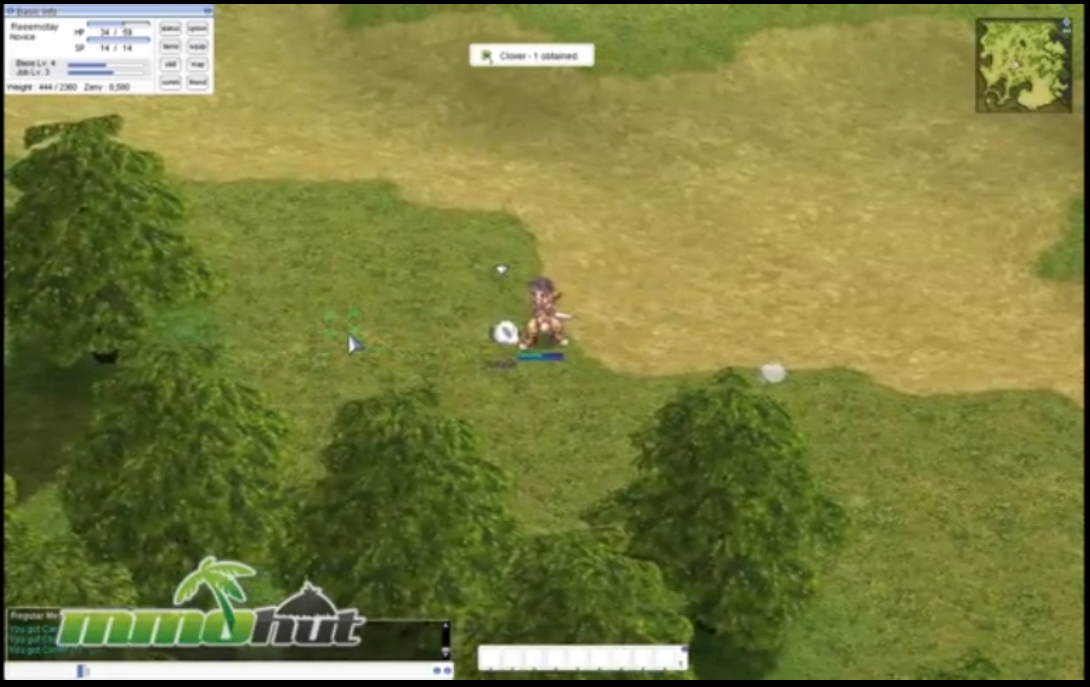lunatic: (483, 314, 522, 346), (764, 361, 785, 384)
